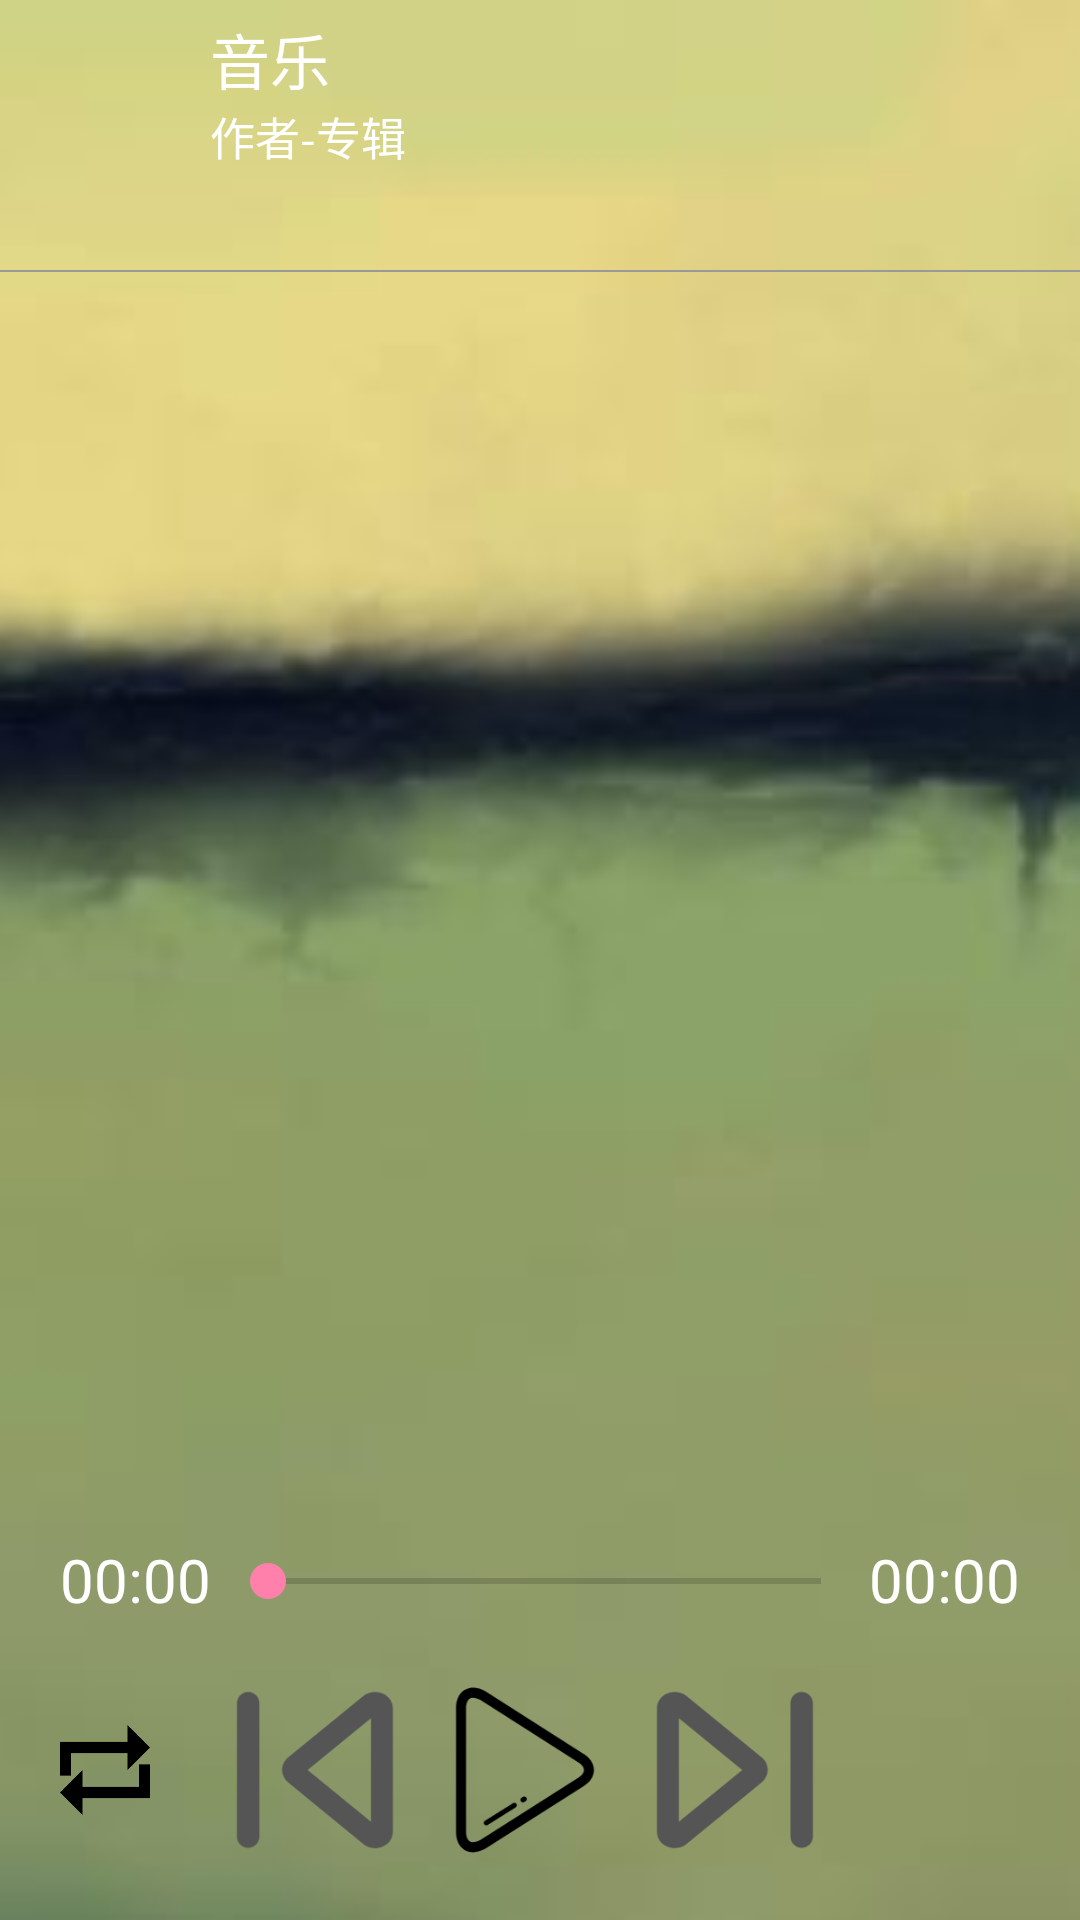

Icons on this 1080x1920 Android screen, each with its box as (x1, y1, x2, y2):
loop: (60, 1725, 150, 1815)
next song: (657, 1692, 813, 1848)
play: (455, 1687, 594, 1853)
pre song: (237, 1692, 393, 1848)
